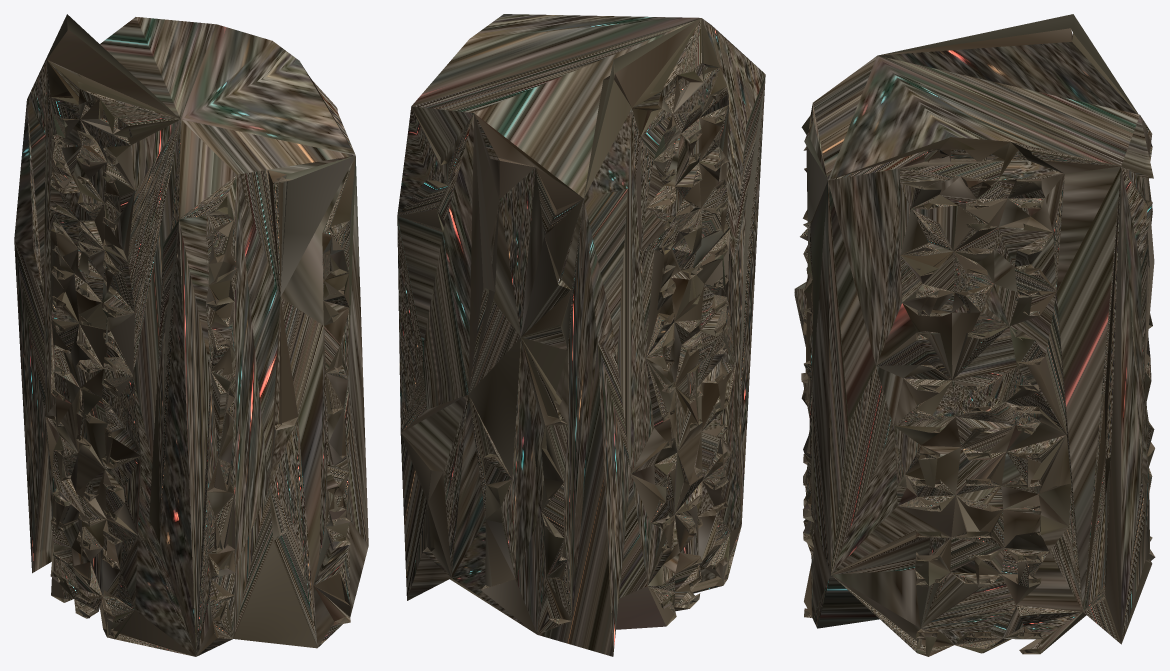
The model's file is m01_far.glb.
3 renders of one model, left to right at view 1: azimuth 30°, elevation 25°; view 2: azimuth 150°, elevation 25°; view 3: azimuth 270°, elevation 25°, orthographic. The views are drawn at different scales.
Visible parts, largest first — view 1: m01_far; view 2: m01_far; view 3: m01_far.
Part boxes in pixels (x1,y1,x2,y2): m01_far: [14, 14, 368, 656]; m01_far: [397, 14, 765, 656]; m01_far: [794, 14, 1155, 656].
Bounding box in the file's own units: 71.99 × 170 × 99.81.
1 material, 1 textured.
